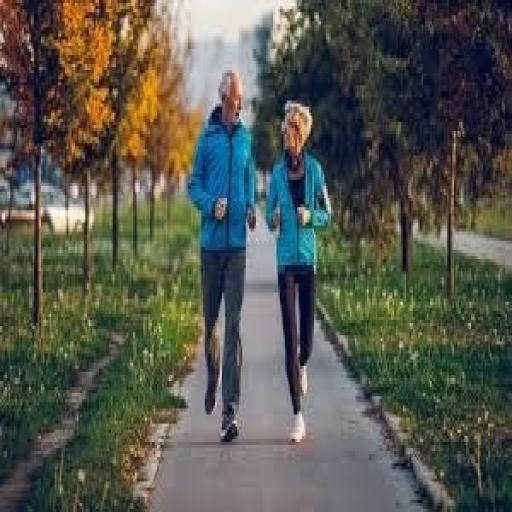running: (186, 67, 259, 445), (263, 98, 334, 448)
